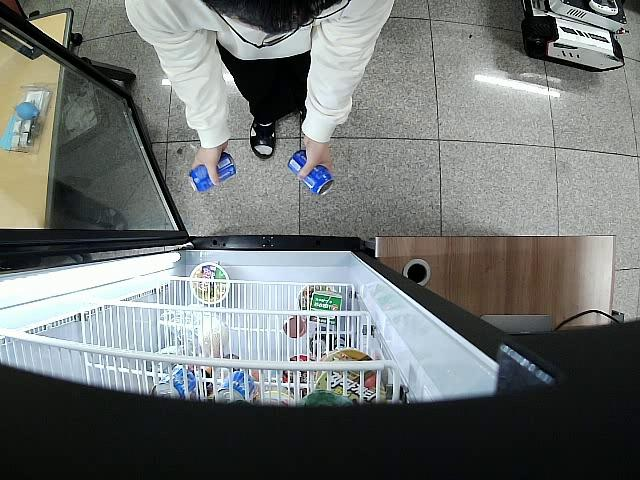00_hand: (296, 131, 333, 184), (191, 144, 225, 189)
13_pocariSweat: (288, 149, 333, 197), (189, 152, 237, 191)
